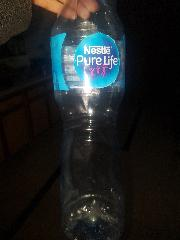plastic: (50, 1, 126, 239)
